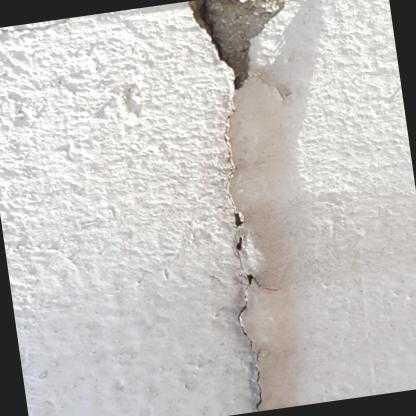crack: (221, 87, 263, 411)
